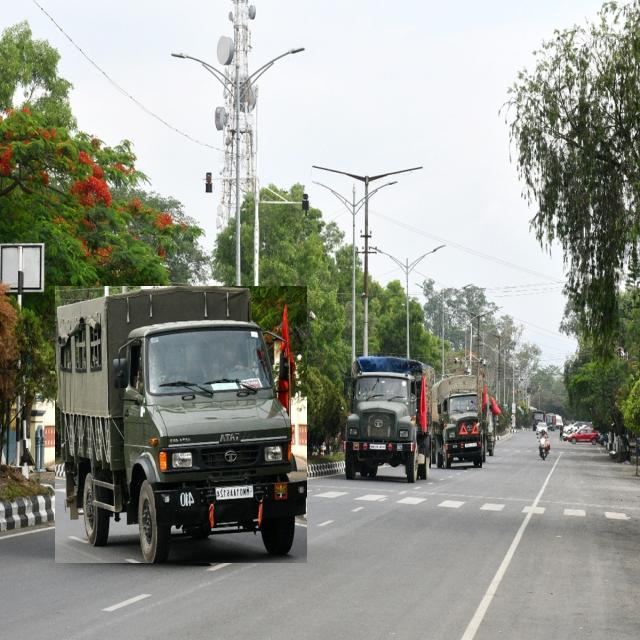car: (568, 426, 600, 445)
truck: (56, 287, 307, 563), (344, 355, 436, 482), (431, 375, 482, 468)
